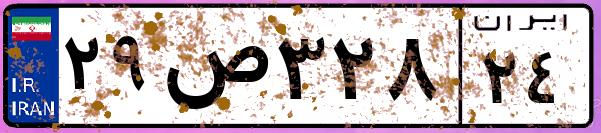2: (330, 28, 385, 110), (57, 26, 110, 100), (475, 38, 525, 113)
3: (270, 28, 330, 110)
4: (525, 38, 570, 115)
8: (385, 28, 445, 110)
9: (110, 28, 158, 98)
ص: (158, 20, 270, 120)
